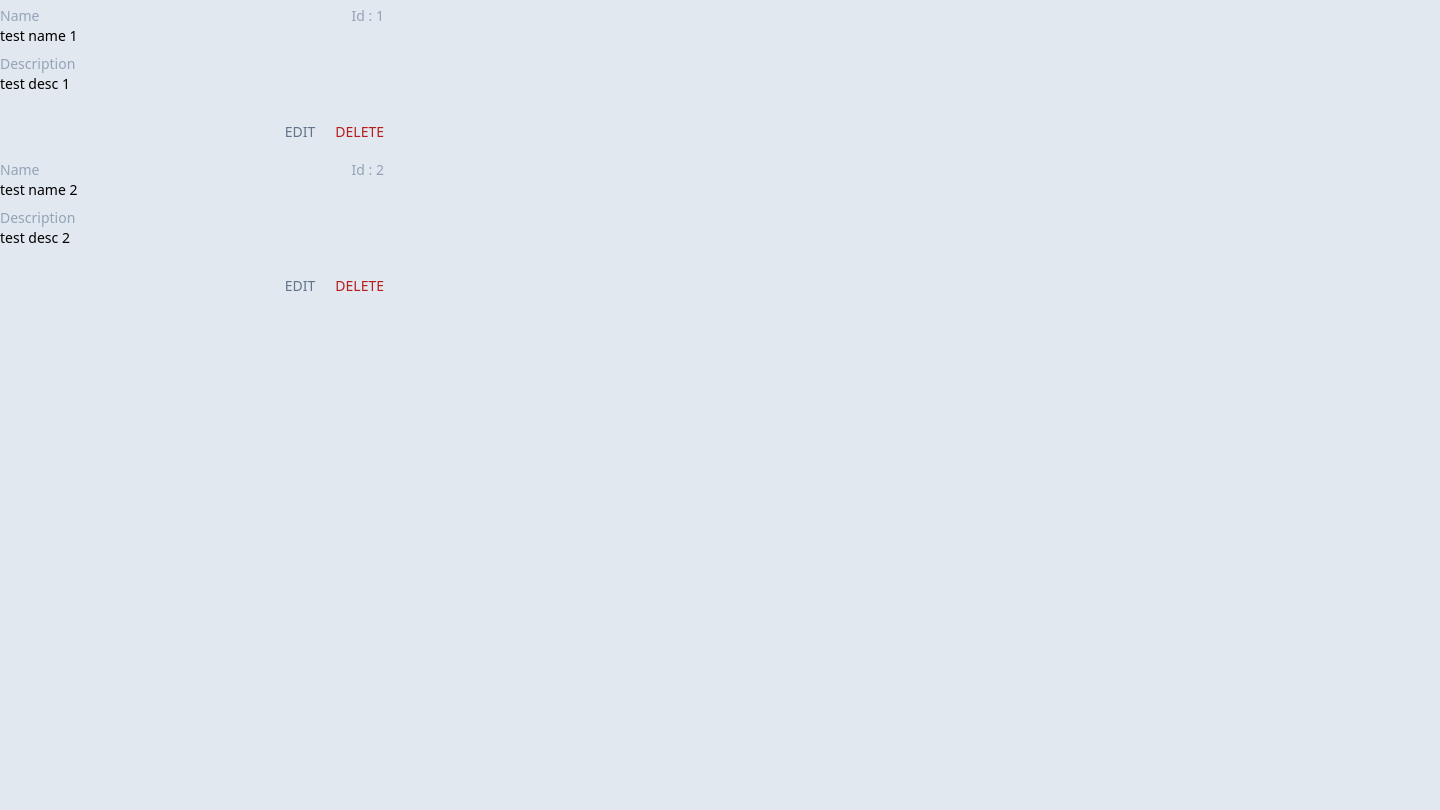
Scenario: List Display Component › Pop up delete confirmation modal
Click the button with test id "button-delete-item" below "test name 1". click: (360,132)
box: [335,122,384,142]
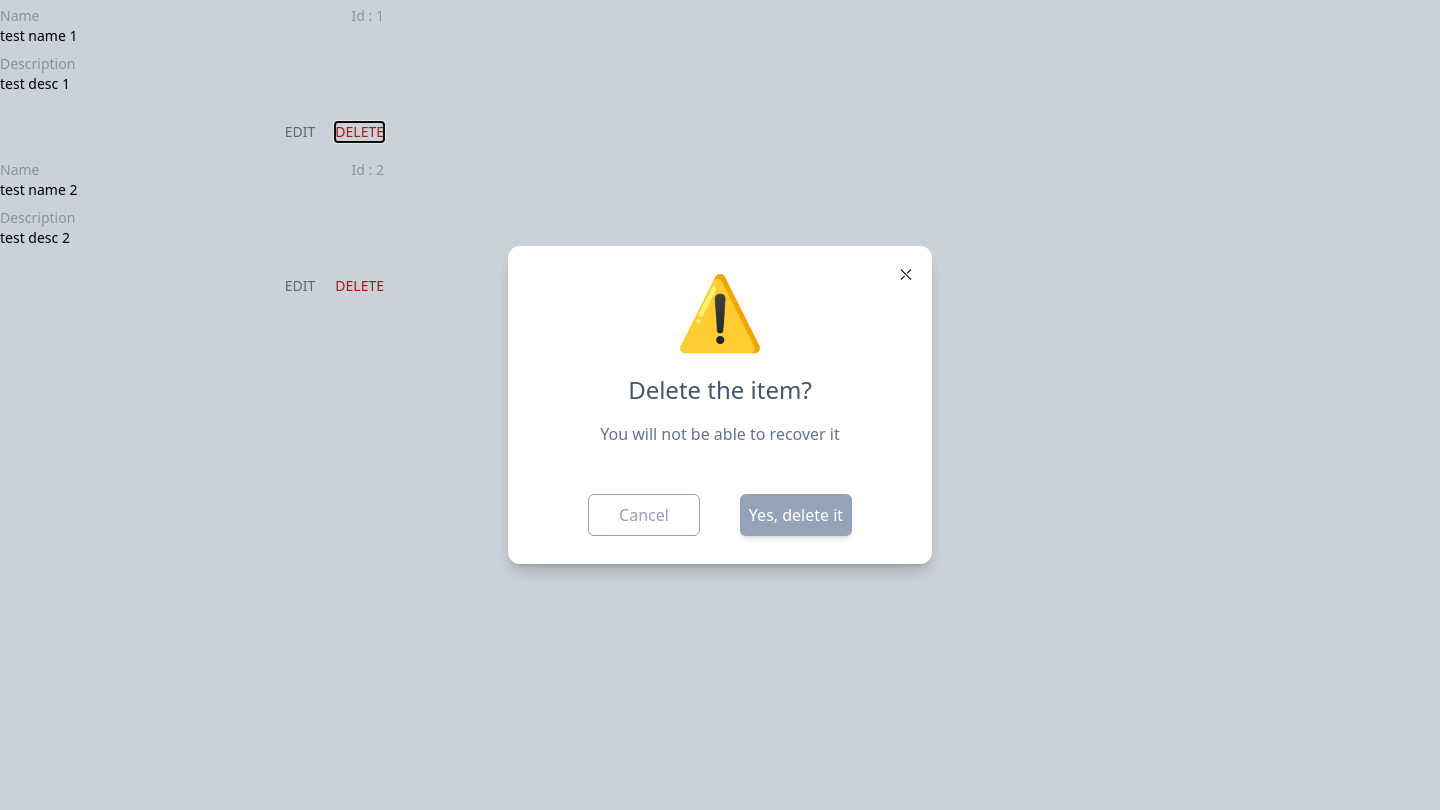
Expected: the 1st element with test id "modal-delete-confirm" is shown
